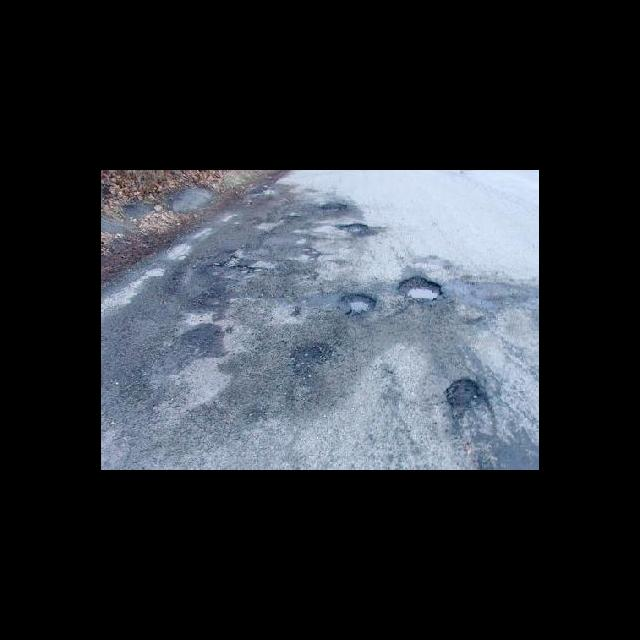lubang_kecil: (428, 364, 503, 431), (384, 261, 454, 315), (331, 277, 378, 323)
